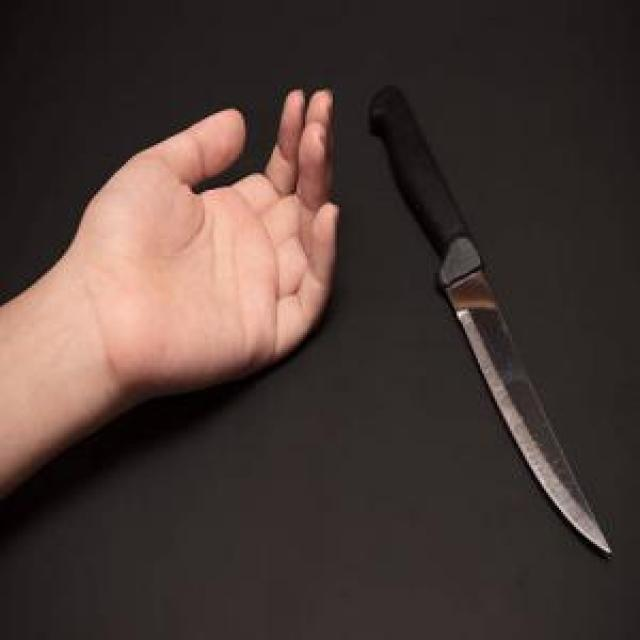knife: (371, 58, 611, 561)
